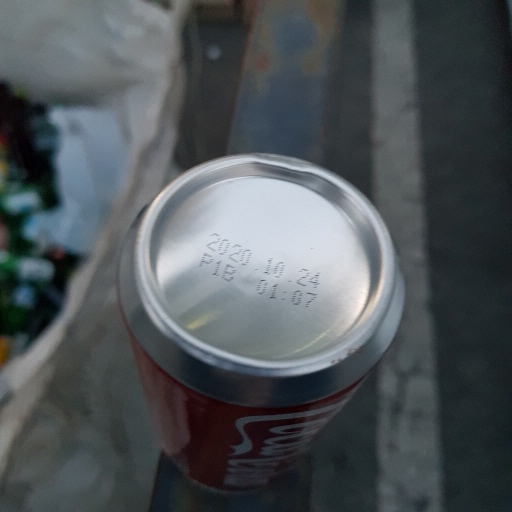Metal_0: (121, 146, 406, 496)
